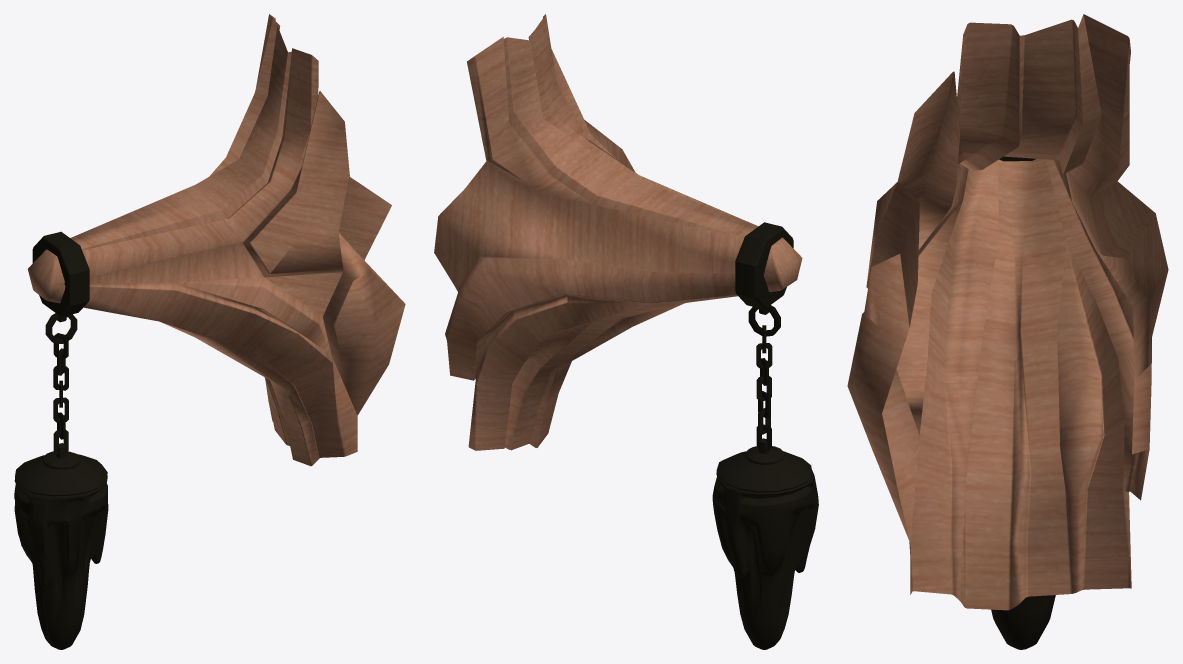
Rendered from Geonosis_Pillar01_SpikeLamp.fbx.
3 views of the same model, side by side, from view 1: azimuth 30°, elevation 25°; view 2: azimuth 150°, elevation 25°; view 3: azimuth 270°, elevation 25° (orthographic). The views are drawn at different scales.
Parts seen in each view (by area): view 1: Geonosis_Pillar01_SpikeLamp; view 2: Geonosis_Pillar01_SpikeLamp; view 3: Geonosis_Pillar01_SpikeLamp.
Part boxes in pixels (<box>): Geonosis_Pillar01_SpikeLamp: <box>14,14,405,649</box>; Geonosis_Pillar01_SpikeLamp: <box>434,14,818,649</box>; Geonosis_Pillar01_SpikeLamp: <box>847,14,1168,649</box>.
Size of the model in its own units: 309 by 489 by 178.
